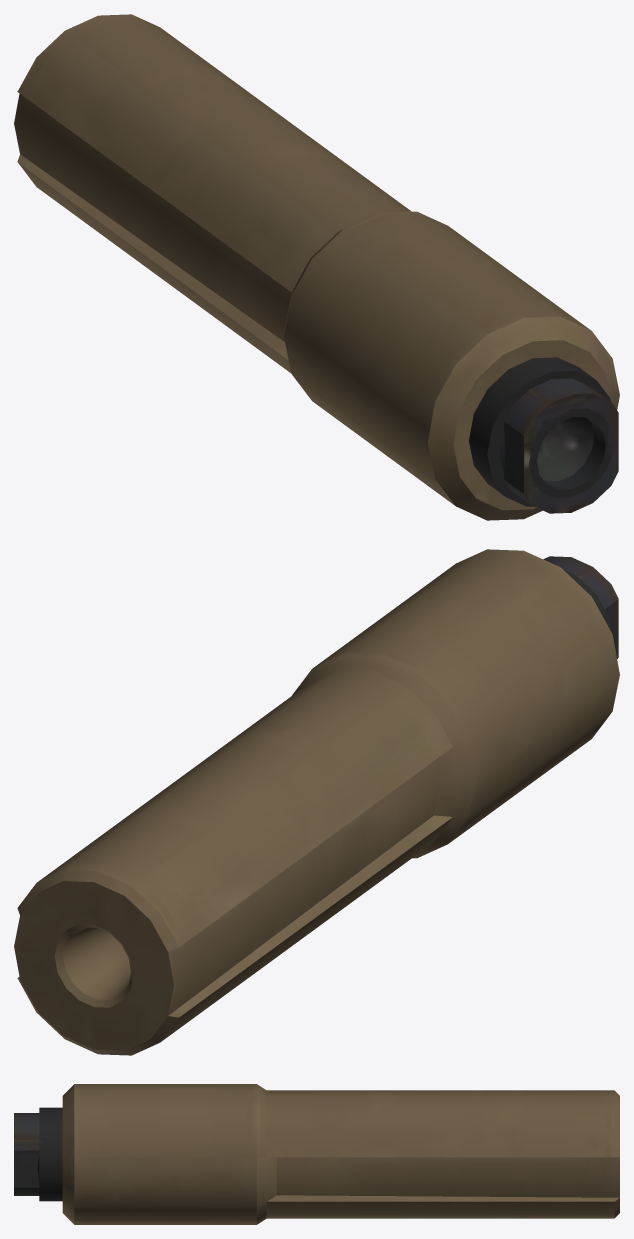
File: m1911-att.glb
The picture shows the model from 3 angles, top to bottom: view 1: azimuth 30°, elevation 25°; view 2: azimuth 150°, elevation 25°; view 3: azimuth 270°, elevation 25°; orthographic projection. The views are drawn at different scales.
Visible parts, largest first — view 1: can45, comp45; view 2: can45; view 3: can45, comp45.
Boxes of the visible parts, x1,y1,x2,y2 form: can45: [14, 14, 619, 520]; comp45: [469, 357, 613, 506]; can45: [14, 549, 619, 1055]; can45: [14, 1084, 619, 1224]; comp45: [37, 1107, 62, 1201].
Size of the model in its own units: 0.036 by 0.036 by 0.1548.
Materials: 2 (2 with a texture image).
